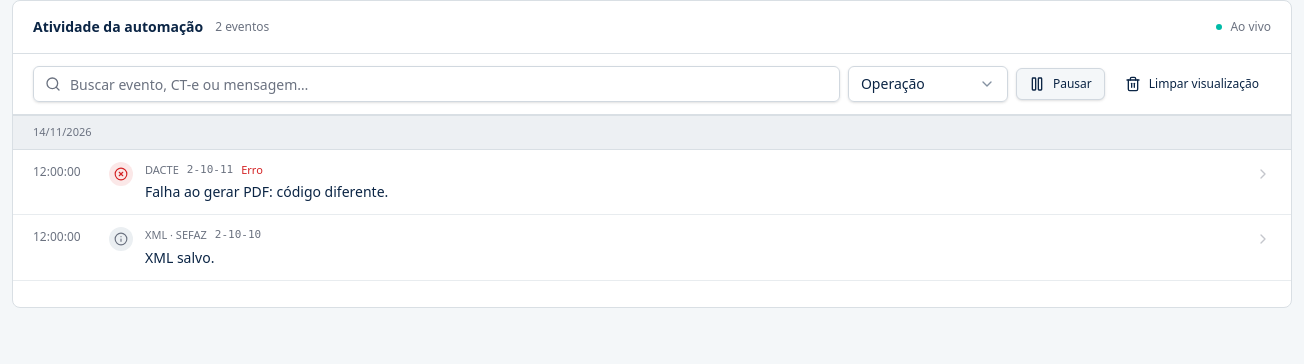
Test: pausa a visualização sem perder os eventos que chegam nem interromper o estado da SEFAZ
Expected: the text "XML salvo." is shown, 145,248 -> 214,266
Click the button "Pausar": [1060, 84] box 1016,68 -> 1105,100
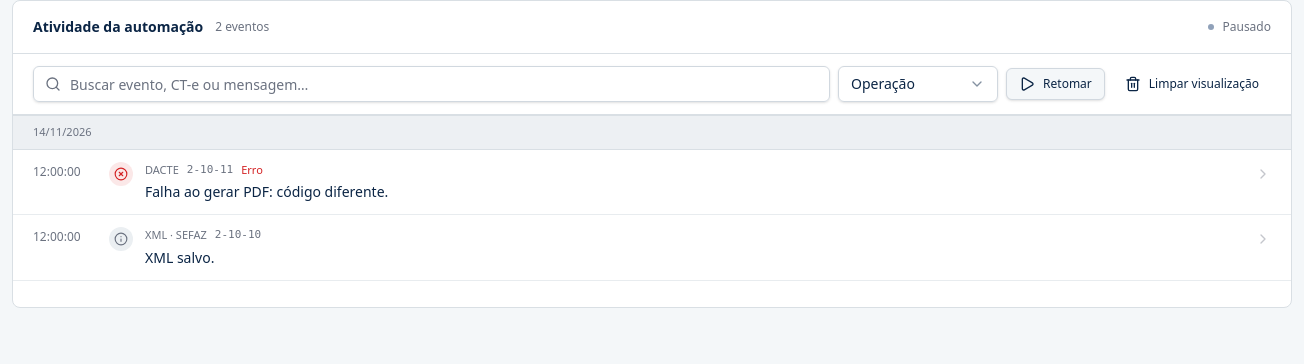
Expected: the text "Aguardando confirmação na SEFAZ." is not shown
Click the button "Retomar": [1055, 84] box 1006,68 -> 1105,100
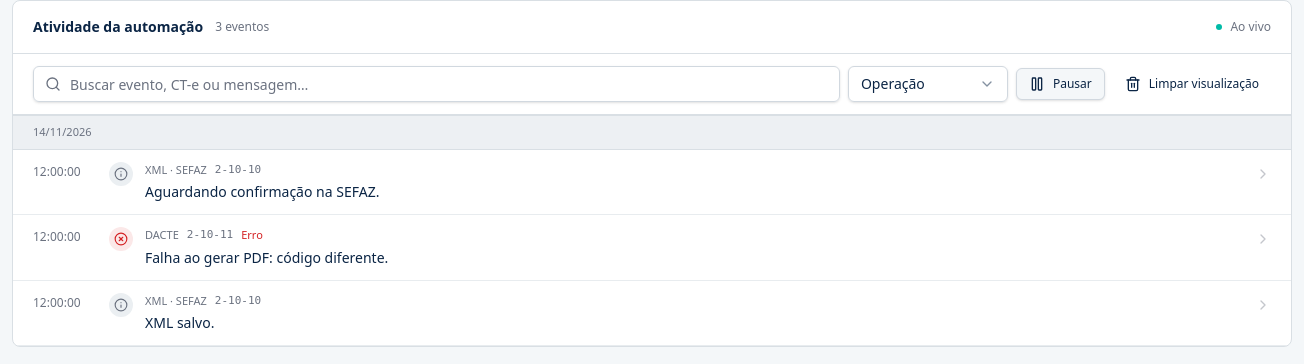
Expected: the text "Aguardando confirmação na SEFAZ." is shown, 145,182 -> 379,201
